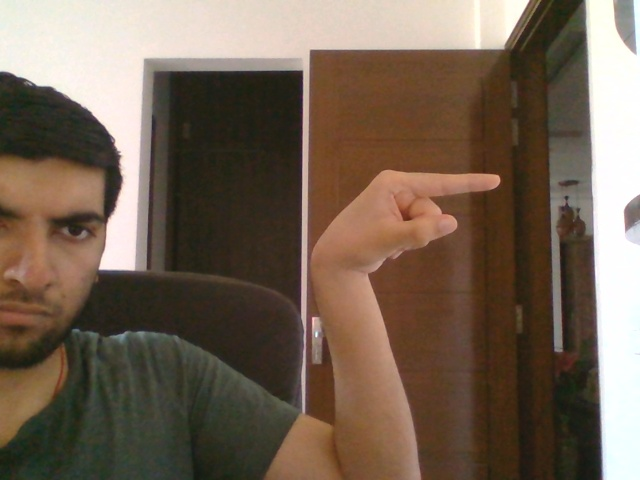LetterG: (311, 169, 501, 276)
